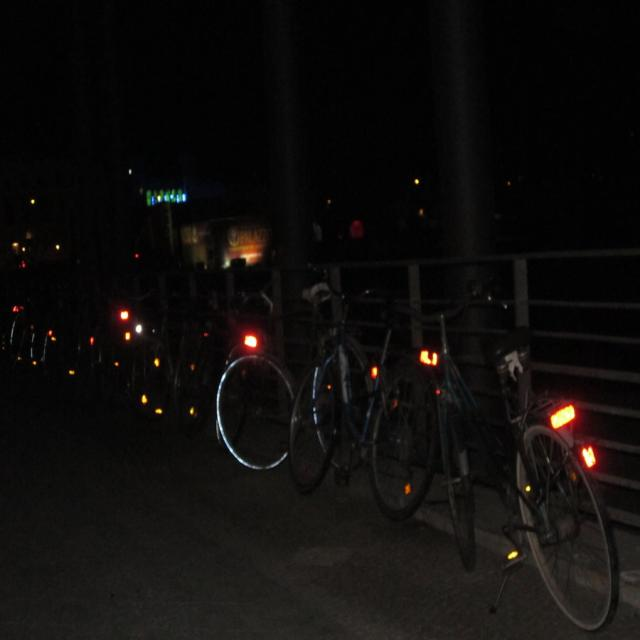Bicycle: (421, 315, 629, 631), (210, 250, 361, 471), (119, 232, 256, 458), (0, 228, 142, 408), (330, 300, 444, 491)
